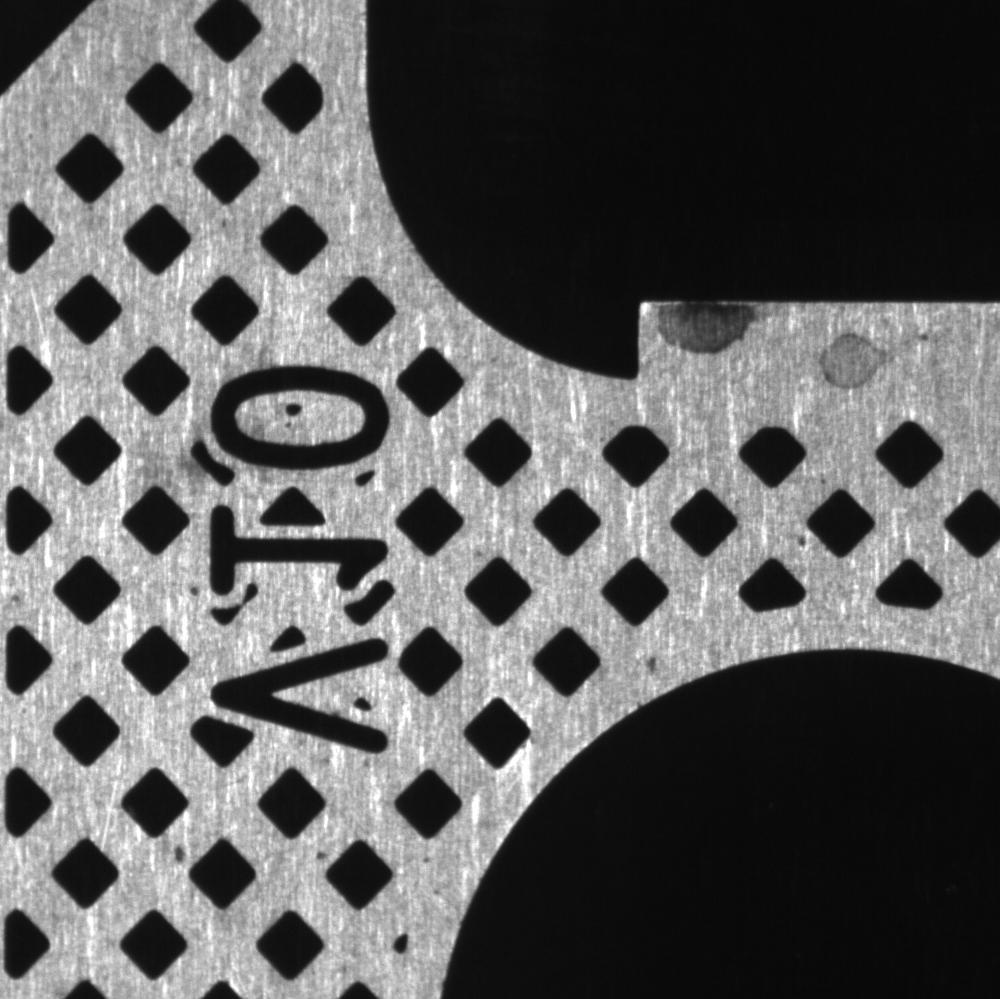Discolor: (649, 301, 760, 361), (814, 329, 899, 393), (126, 429, 200, 492)
